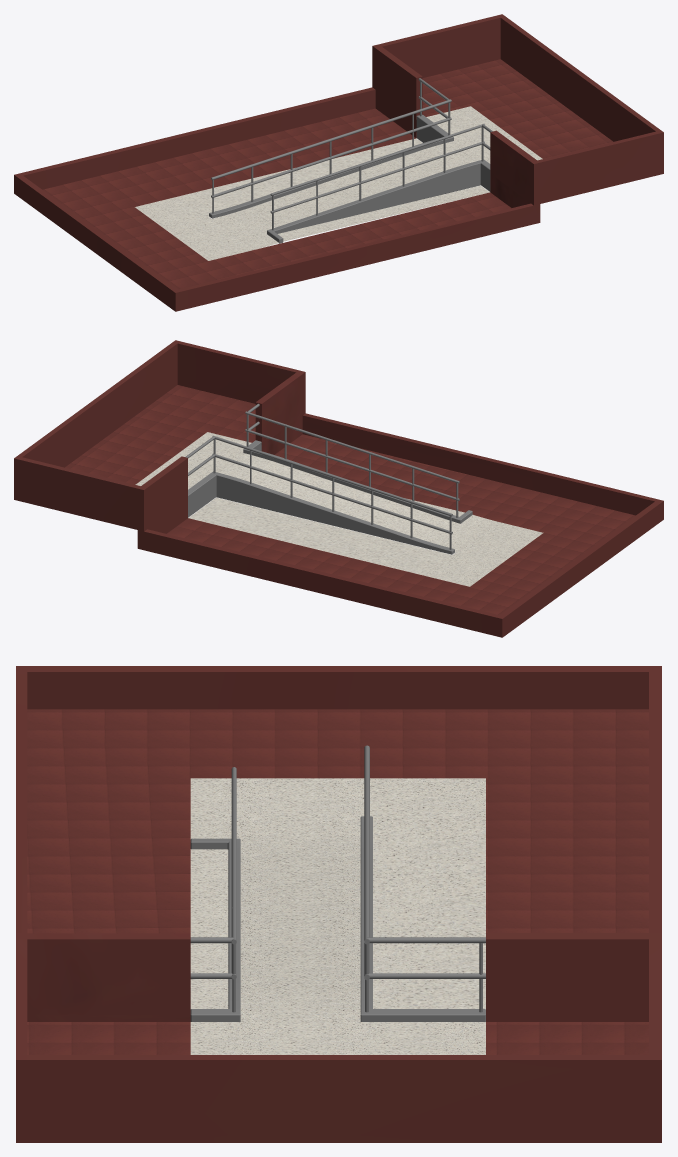
File: irglm_lindsay_ramp_terrain.fbx
3 renders of one model, top to bottom at view 1: azimuth 30°, elevation 25°; view 2: azimuth 150°, elevation 25°; view 3: azimuth 270°, elevation 25°, orthographic. The views are drawn at different scales.
Visible parts, largest first — view 1: red_walls, red_floor, Floor, ramp_walls, Cylinder.013, Cylinder.014, Cylinder.015, Cylinder.016; view 2: red_walls, red_floor, Floor, ramp_walls, Cylinder.013, Cylinder.014, Cylinder.015, Cylinder.016; view 3: red_walls, red_floor, Floor, ramp_walls, Cylinder.013, Cylinder.015, Cylinder.018, Cylinder.019.
Boxes of the visible parts, box(x1,y1,x2,y2) form: red_walls: box(14, 14, 663, 311); red_floor: box(42, 59, 613, 289); Floor: box(135, 106, 542, 260); ramp_walls: box(209, 114, 490, 243); Cylinder.013: box(211, 99, 451, 180); Cylinder.014: box(211, 117, 451, 197); Cylinder.015: box(270, 124, 484, 195); Cylinder.016: box(270, 141, 484, 213); red_walls: box(14, 340, 663, 637); red_floor: box(65, 385, 635, 614); Floor: box(135, 432, 543, 586); ramp_walls: box(188, 440, 472, 554); Cylinder.013: box(212, 435, 452, 516); Cylinder.014: box(212, 453, 452, 534); Cylinder.015: box(245, 411, 459, 483); Cylinder.016: box(245, 429, 459, 500); red_walls: box(16, 666, 661, 1142); red_floor: box(27, 709, 648, 1054); Floor: box(190, 778, 485, 1054); ramp_walls: box(190, 816, 485, 1021); Cylinder.013: box(364, 745, 369, 944); Cylinder.015: box(231, 767, 236, 944); Cylinder.018: box(367, 937, 485, 943); Cylinder.019: box(368, 973, 485, 978).
Size of the model in its own units: 1382 by 163 by 792.
